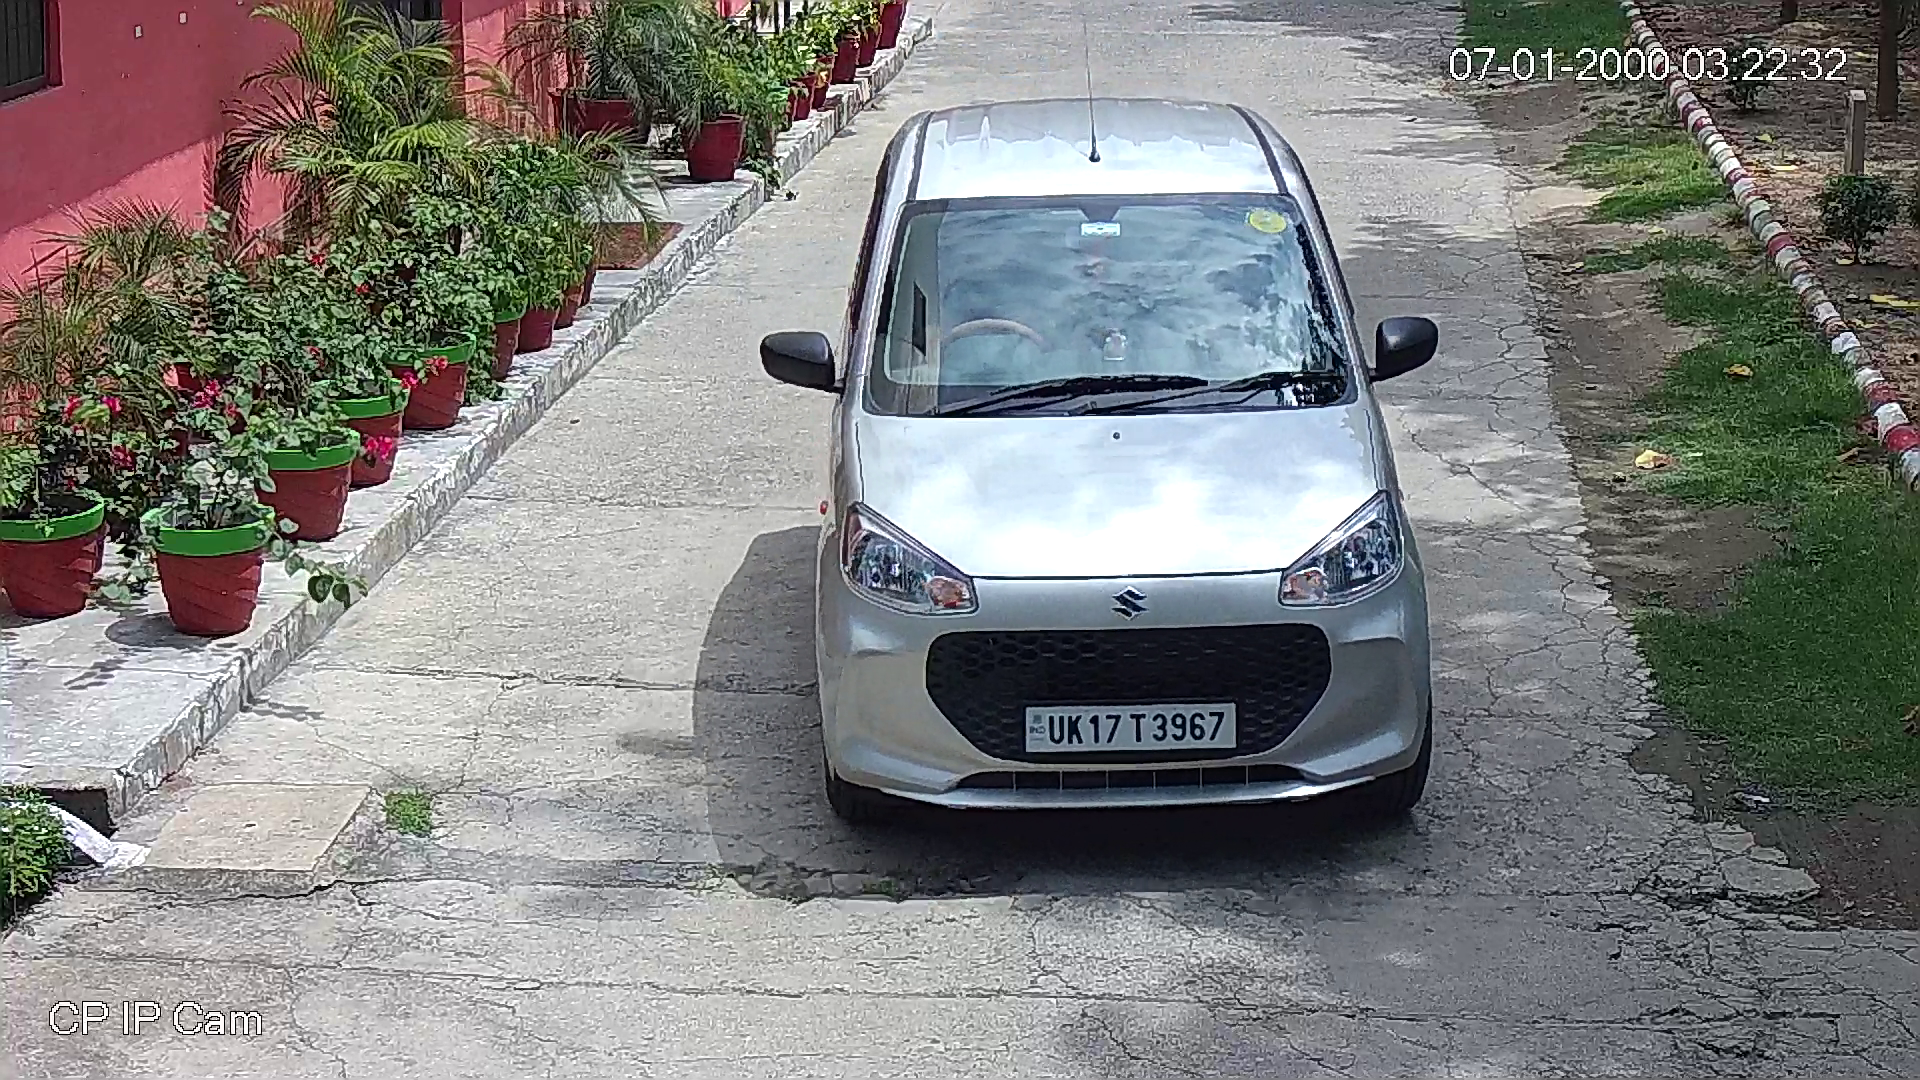plate: (1018, 697, 1242, 756)
